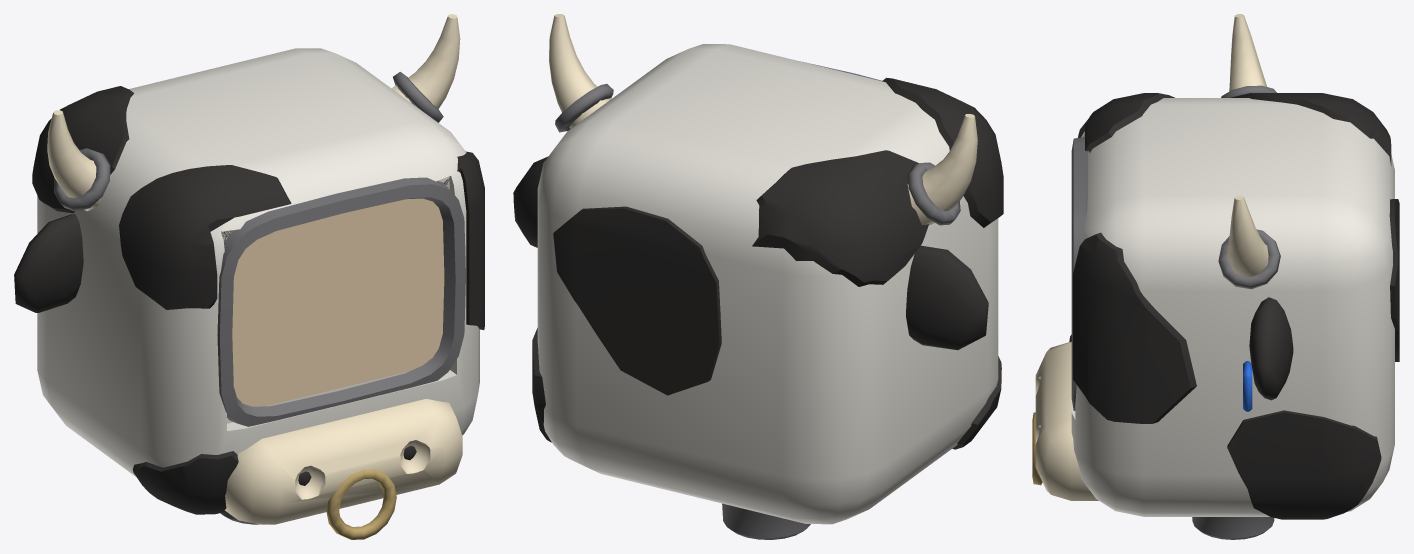
File: Kit_Head_Cow.glb
The picture shows the model from 3 angles, left to right: view 1: azimuth 30°, elevation 25°; view 2: azimuth 150°, elevation 25°; view 3: azimuth 270°, elevation 25°; orthographic projection. The views are drawn at different scales.
Parts seen in each view (by area): view 1: Kit_Head_Cow, FacePlate; view 2: Kit_Head_Cow; view 3: Kit_Head_Cow.
Boxes of the visible parts, x1,y1,x2,y2 form: Kit_Head_Cow: (14,14,484,539); FacePlate: (225,198,444,406); Kit_Head_Cow: (513,14,1003,539); Kit_Head_Cow: (1032,14,1399,539).
Size of the model in its own units: 0.414 by 0.3854 by 0.3069.
